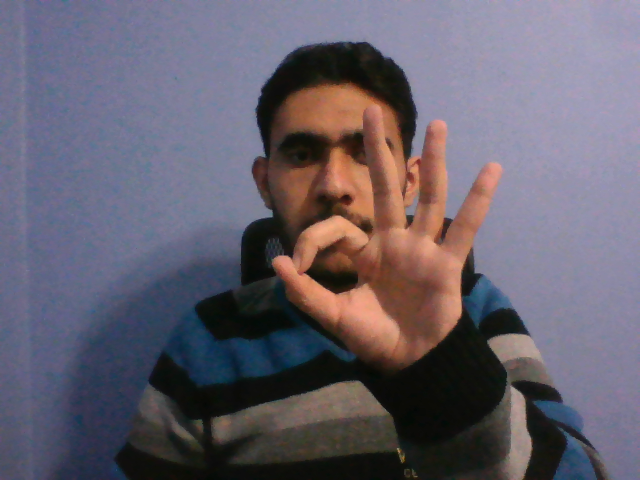F: (259, 99, 505, 384)
